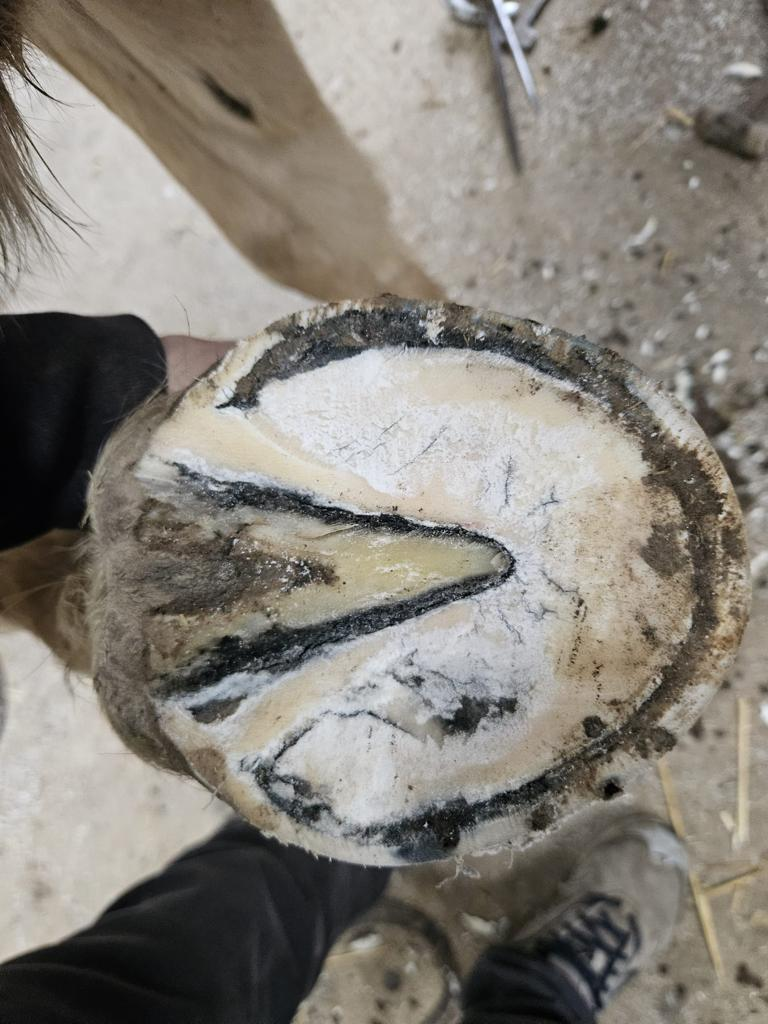horsesole: (125, 299, 750, 867)
